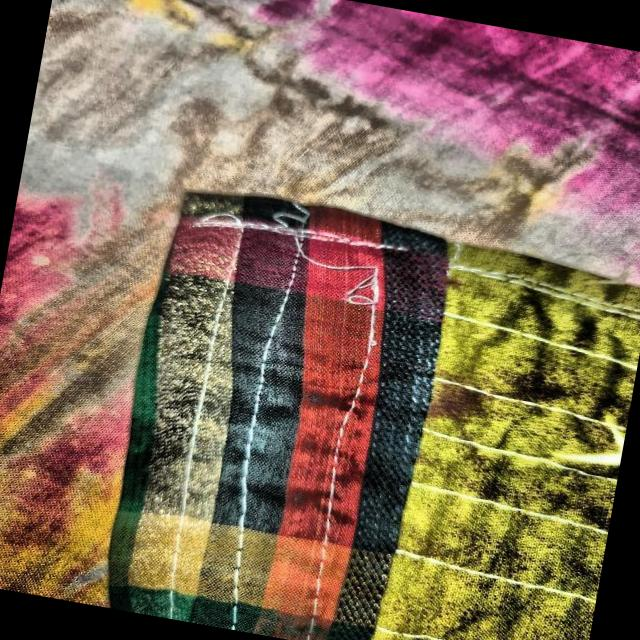gray stitch: (178, 190, 416, 323)
